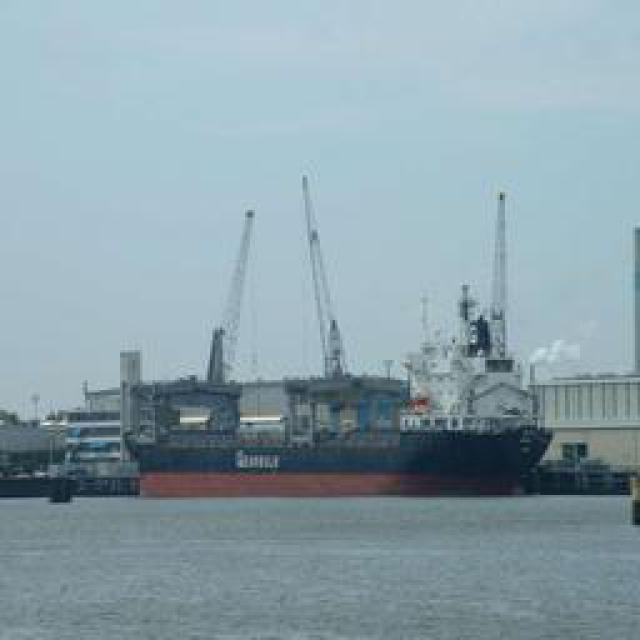Ship: (108, 164, 566, 479)
